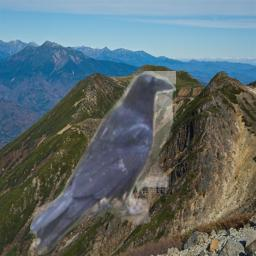Crow: (30, 71, 176, 255)
